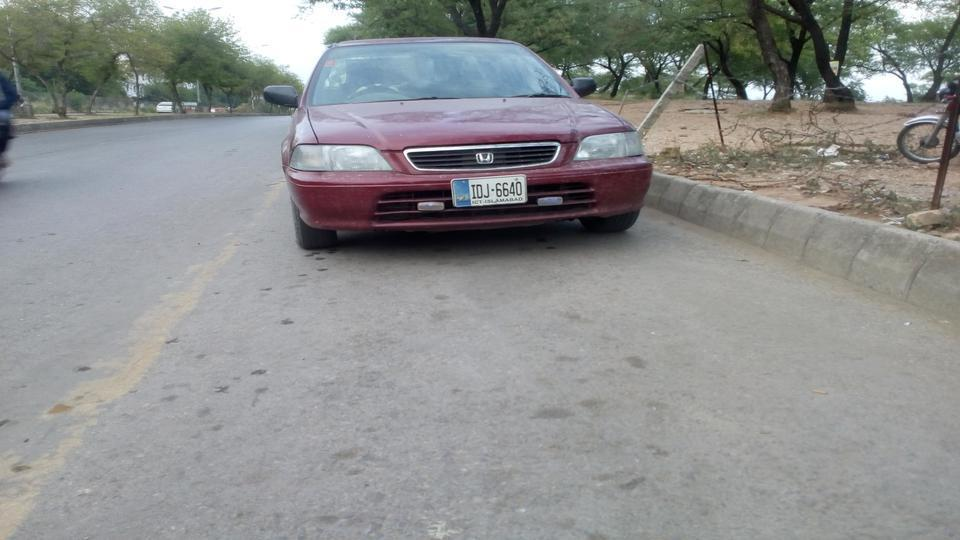NumberPlate: (449, 178, 531, 207)
